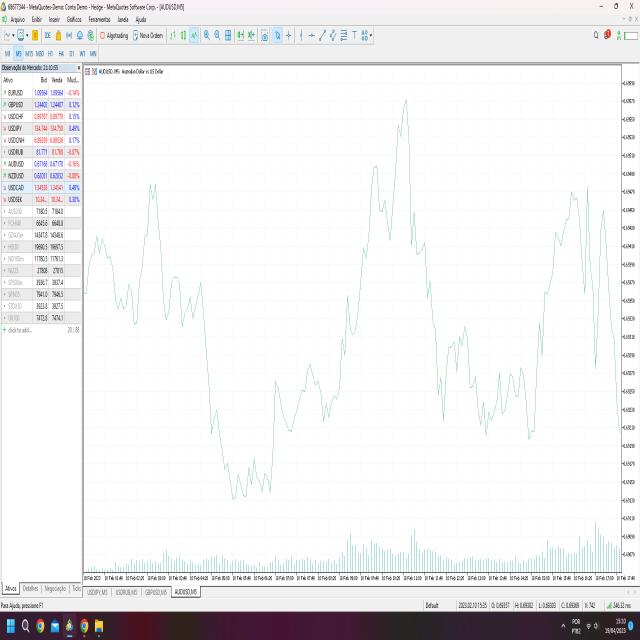oco: (120, 171, 188, 360)
topo_duplo: (352, 85, 432, 351)
